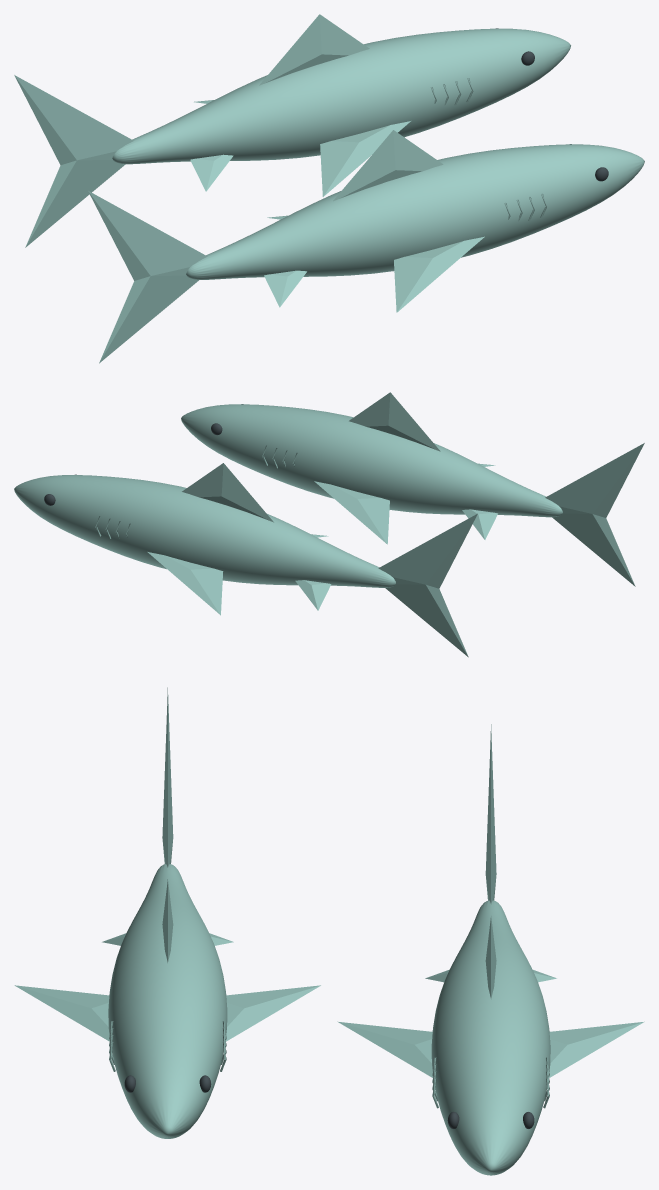
3 renders of one model, top to bottom at view 1: azimuth 30°, elevation 25°; view 2: azimuth 150°, elevation 25°; view 3: azimuth 270°, elevation 25°, orthographic. The views are drawn at different scales.
Parts seen in each view (by area): view 1: Body, Body.001, Tail.001, Tail, Dorsal, Dorsal.001, Pectoral, Pectoral.002, Pelvic, Pelvic.002; view 2: Body, Body.001, Tail.001, Tail, Dorsal, Dorsal.001, Pectoral.001, Pectoral.003, Pelvic.003, Pelvic.001; view 3: Body, Body.001, Pectoral, Pectoral.003, Pectoral.002, Pectoral.001, Tail, Tail.001.
Part boxes in pixels (x1,y1,x2,y2): Body: (186, 144, 644, 279); Body.001: (112, 28, 570, 164); Tail.001: (14, 75, 133, 247); Tail: (88, 191, 207, 363); Dorsal: (333, 130, 443, 201); Dorsal.001: (259, 14, 369, 85); Pectoral: (394, 236, 484, 312); Pectoral.002: (320, 121, 410, 196); Pelvic: (264, 270, 306, 307); Pelvic.002: (190, 154, 233, 191); Body: (181, 404, 562, 517); Body.001: (14, 475, 395, 587); Tail.001: (378, 513, 477, 657); Tail: (545, 443, 644, 586); Dorsal: (349, 392, 440, 451); Dorsal.001: (182, 463, 273, 522); Pectoral.001: (314, 481, 389, 544); Pectoral.003: (147, 552, 223, 615); Pelvic.003: (295, 580, 331, 610); Pelvic.001: (462, 509, 497, 539); Body: (108, 864, 227, 1138); Body.001: (431, 900, 550, 1175); Pectoral: (14, 985, 109, 1041); Pectoral.003: (549, 1021, 644, 1077); Pectoral.002: (337, 1021, 432, 1077); Pectoral.001: (226, 985, 320, 1041); Tail: (162, 687, 173, 867); Tail.001: (485, 724, 496, 904).
Bounding box in the file's own units: 196 × 53.2 × 146.
